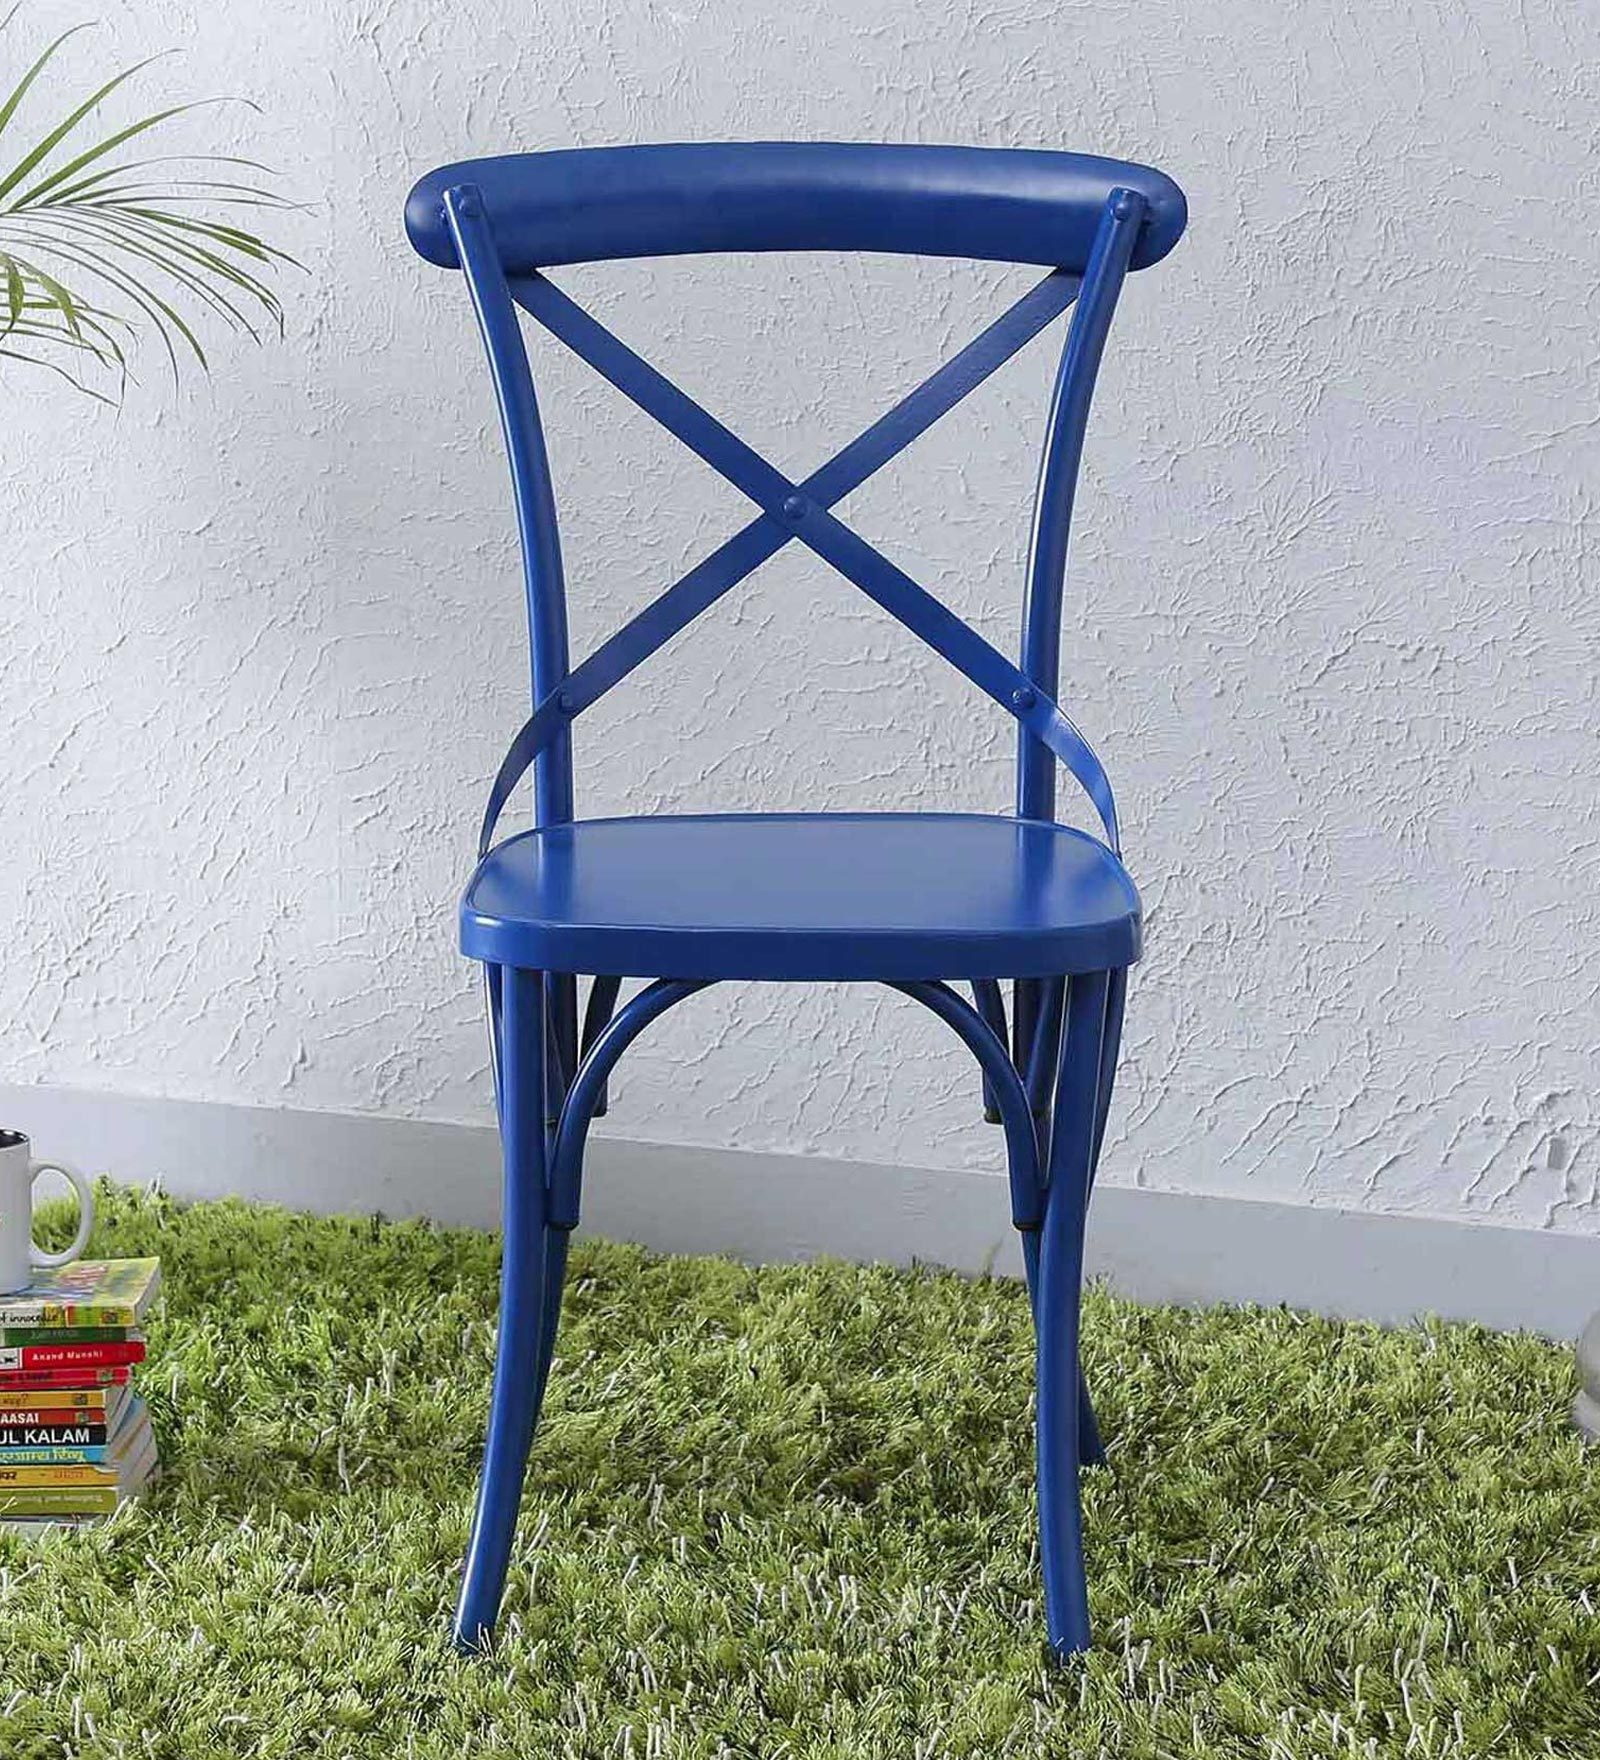Fabian Metal Chair in Blue Color by Bohemiana: (360, 117, 1225, 1703)
